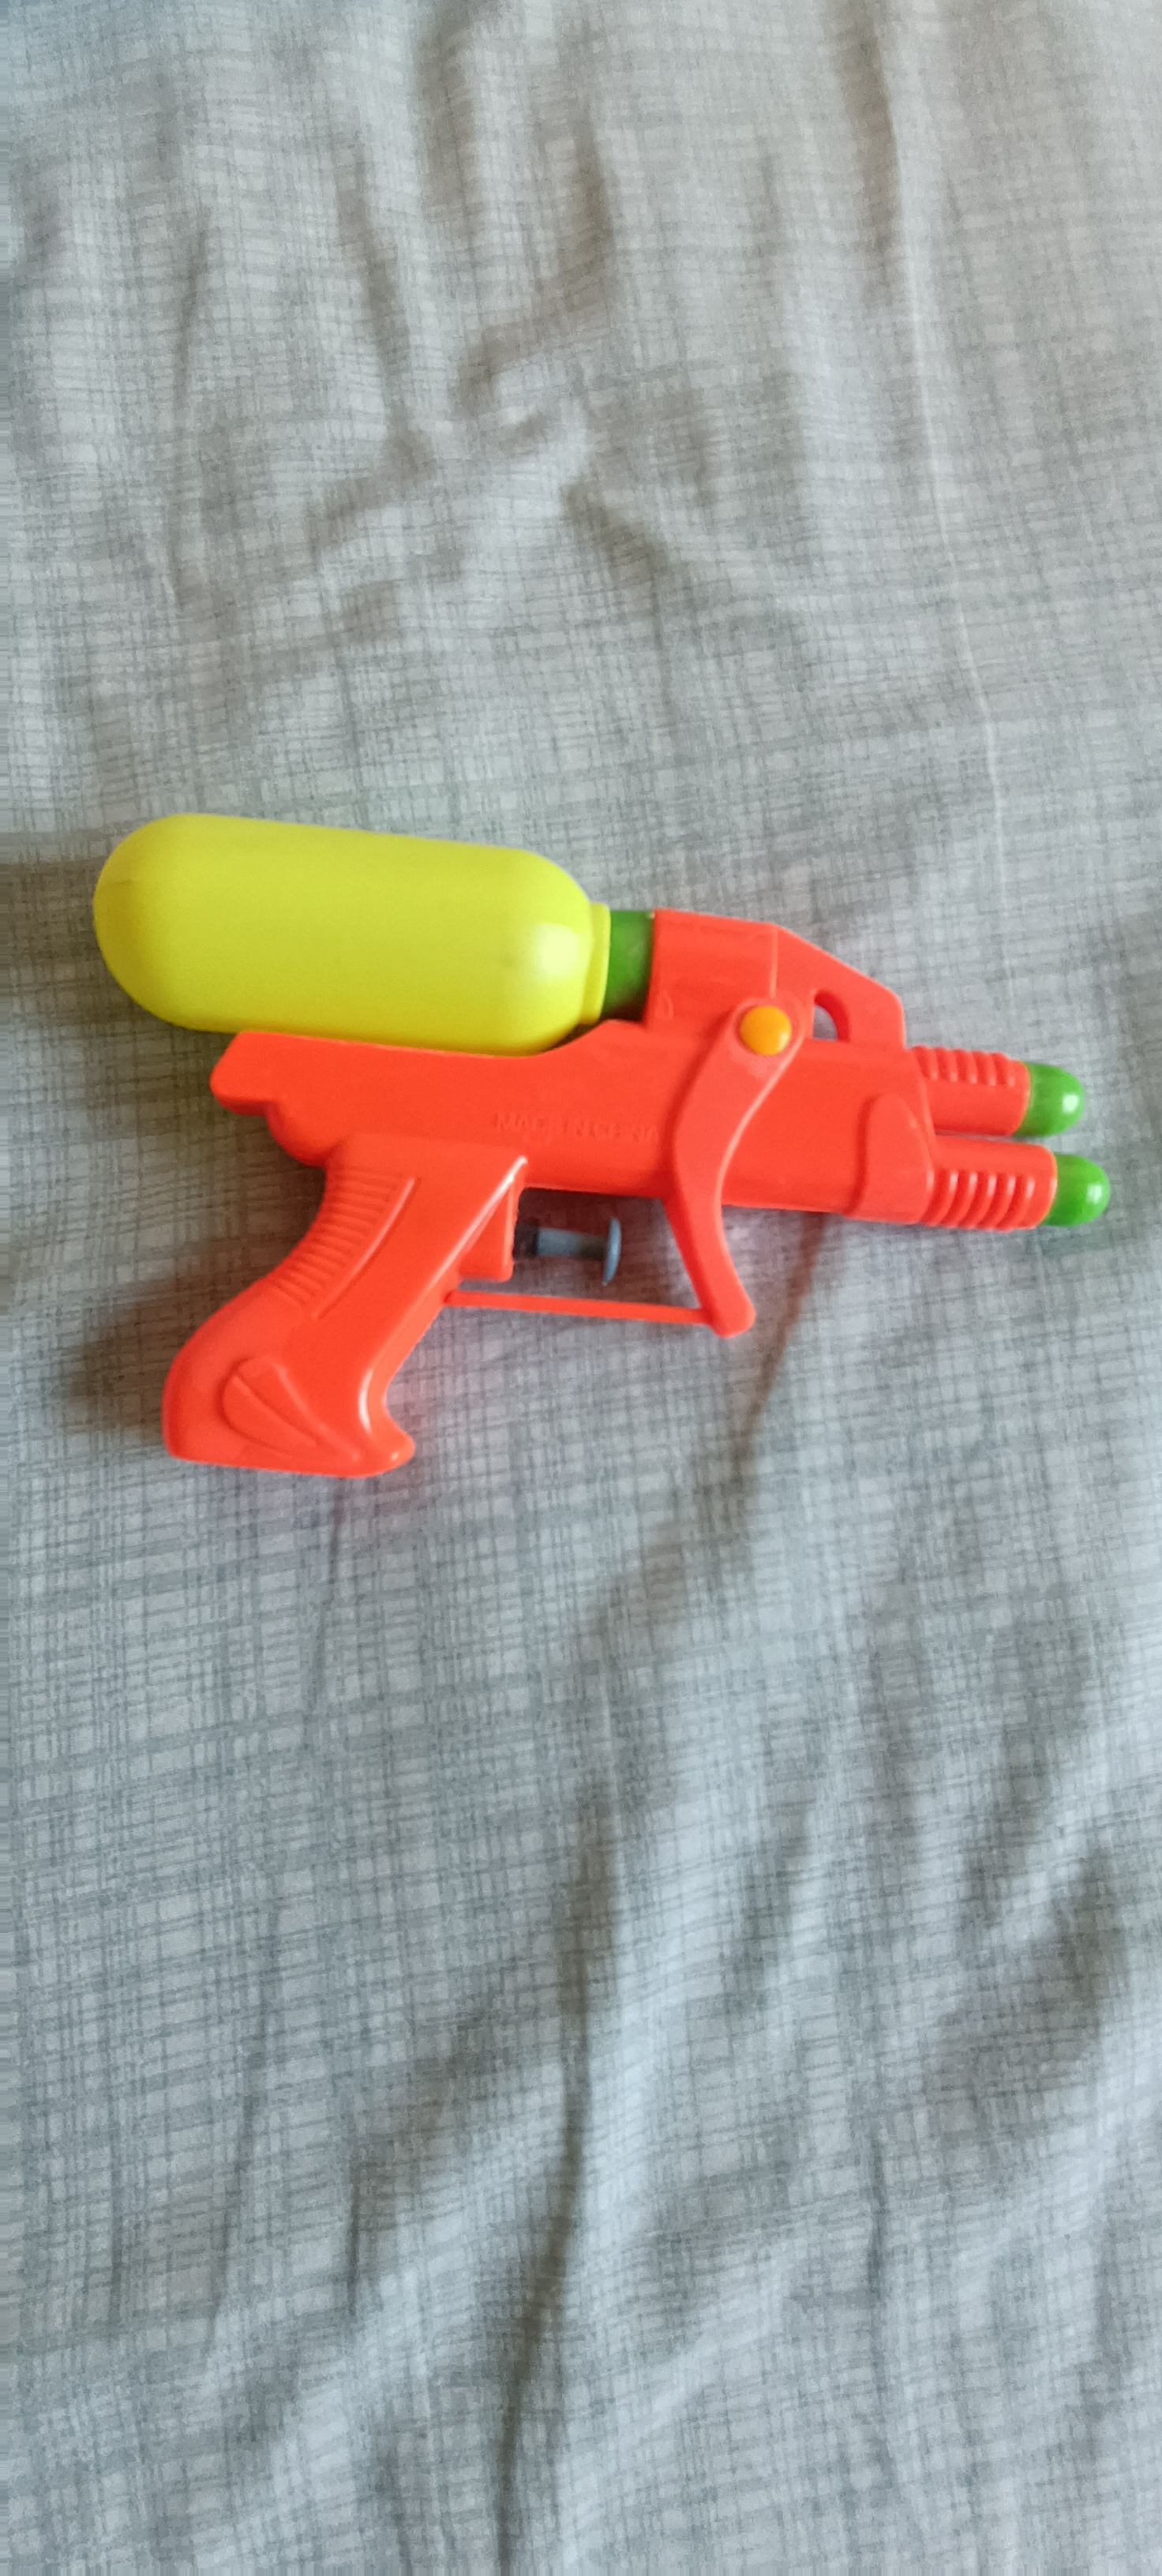Water Gun: (90, 813, 1116, 1474)
